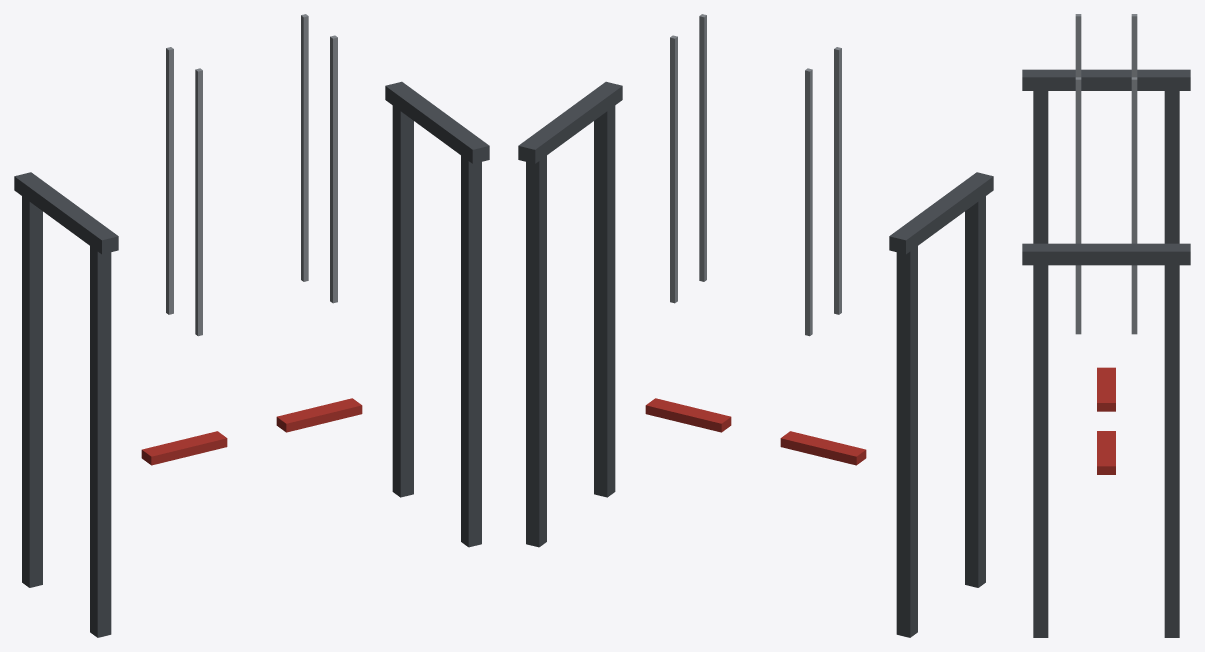
File: prop.recreation.glb
The picture shows the model from 3 angles, left to right: view 1: azimuth 30°, elevation 25°; view 2: azimuth 150°, elevation 25°; view 3: azimuth 270°, elevation 25°; orthographic projection. The views are drawn at different scales.
Visible parts, largest first — view 1: prop.recreation; view 2: prop.recreation; view 3: prop.recreation.
Part boxes in pixels (x1=…): prop.recreation: x1=14, y1=14, x2=489, y2=637; prop.recreation: x1=518, y1=14, x2=993, y2=637; prop.recreation: x1=1022, y1=14, x2=1190, y2=637.
Size of the model in its own units: 2.3 by 2.95 by 0.9.
